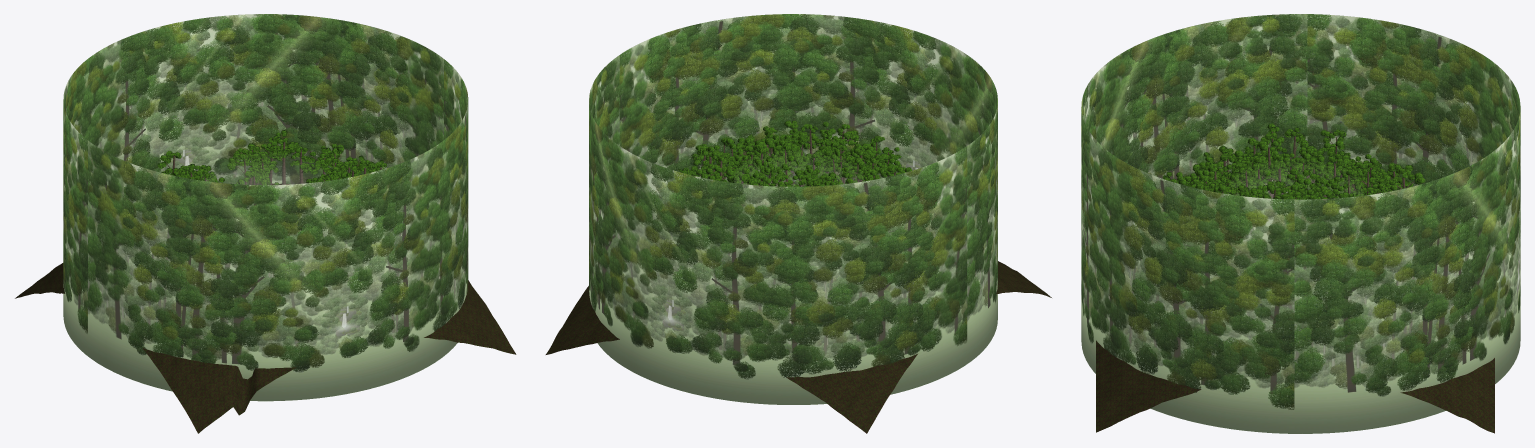
File: plaza.glb
The picture shows the model from 3 angles, left to right: view 1: azimuth 30°, elevation 25°; view 2: azimuth 150°, elevation 25°; view 3: azimuth 270°, elevation 25°; orthographic projection. The views are drawn at different scales.
Parts seen in each view (by area): view 1: Backdrop, Terrain, ForestRing, HazeScrim; view 2: Backdrop, ForestRing, Terrain, ForestInner; view 3: Backdrop, ForestRing, Terrain, ForestInner.
Boxes of the visible parts, <box> form: Backdrop: <box>63,14,468,401</box>; Terrain: <box>15,183,516,433</box>; ForestRing: <box>157,130,386,184</box>; HazeScrim: <box>220,173,305,184</box>; Backdrop: <box>589,14,997,404</box>; ForestRing: <box>678,120,912,186</box>; Terrain: <box>545,182,1051,433</box>; ForestInner: <box>739,166,846,186</box>; Backdrop: <box>1081,14,1520,433</box>; ForestRing: <box>1162,123,1425,198</box>; Terrain: <box>1096,193,1494,433</box>; ForestInner: <box>1239,181,1340,199</box>.
Bounding box in the file's own units: 120 × 73.81 × 120.
58 materials, 29 textured.
